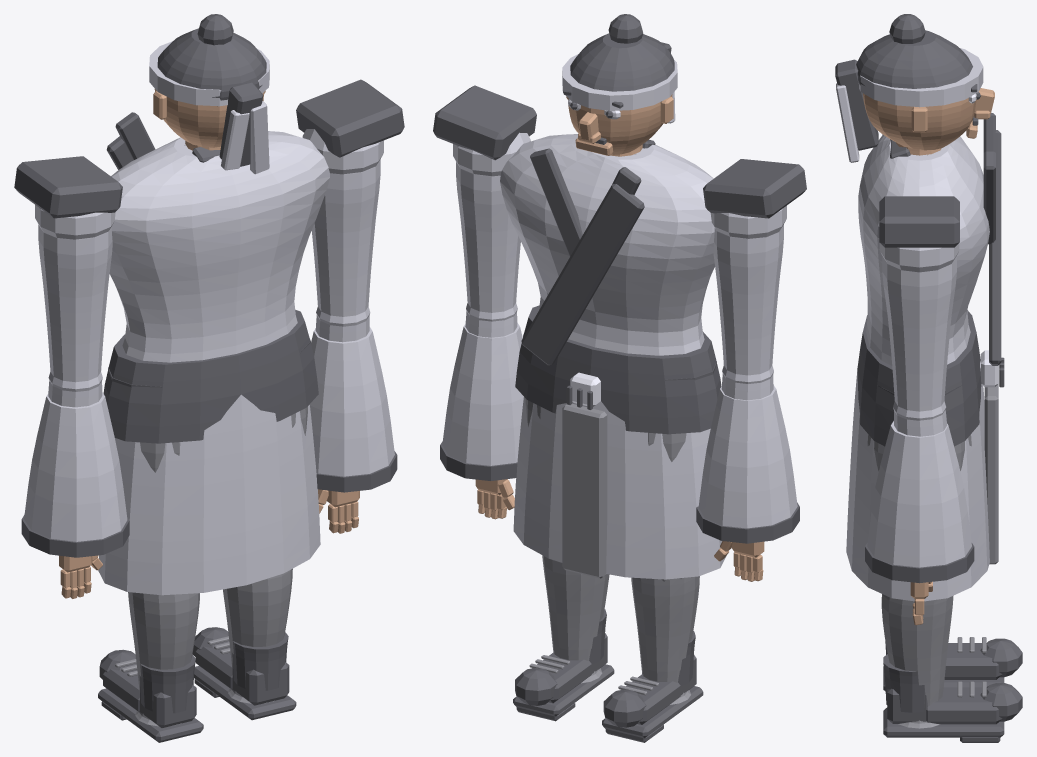
The model's file is swordsman.glb.
3 renders of one model, left to right at view 1: azimuth 30°, elevation 25°; view 2: azimuth 150°, elevation 25°; view 3: azimuth 270°, elevation 25°, orthographic. The views are drawn at different scales.
Visible parts, largest first — view 1: Torso, Hakama, Kimono, Arm_l, Arm_r, Sleeve_l, Sleeve_r, Hair, Boot_l, Boot_r, Shin_l, Shin_r (+5 smaller); view 2: Hakama, Torso, Kimono, Arm_l, Arm_r, Sleeve_l, Sleeve_r, Hair, Shin_l, Shin_r, Boot_l, Boot_r (+5 smaller); view 3: Arm_r, Sleeve_r, Torso, Hair, Hakama, Kimono, Boot_r, Shin_r, Head, Boot_l, Forearm_r, Hand_r (+1 smaller).
Boxes of the visible parts, x1,y1,x2,y2 form: Torso: (108,131,329,387); Hakama: (98,394,320,595); Kimono: (103,112,318,443); Arm_l: (14,156,122,382); Arm_r: (296,79,404,316); Sleeve_l: (21,392,129,557); Sleeve_r: (309,327,397,492); Hair: (149,14,269,174); Boot_l: (98,649,203,742); Boot_r: (192,627,296,720); Shin_l: (128,592,199,726); Shin_r: (223,568,292,703); Hakama: (513,397,726,579); Torso: (500,134,716,380); Kimono: (515,148,721,434); Arm_l: (703,159,806,375); Arm_r: (433,85,536,312); Sleeve_l: (696,385,799,543); Sleeve_r: (440,322,523,480); Hair: (562,14,677,123); Shin_l: (631,576,699,704); Shin_r: (542,555,609,683); Boot_l: (602,631,703,742); Boot_r: (513,609,614,721); Arm_r: (879,196,959,411); Sleeve_r: (865,421,974,583); Torso: (858,135,989,395); Hair: (835,14,983,162); Hakama: (846,371,998,601); Kimono: (857,113,1004,446); Boot_r: (883,654,1022,742); Shin_r: (881,594,953,728); Head: (863,84,994,150); Boot_l: (883,637,1022,691); Forearm_r: (893,401,947,436); Hand_r: (910,581,932,625).
Bounding box in the file's own units: 1.01 × 1.9 × 0.4639.
